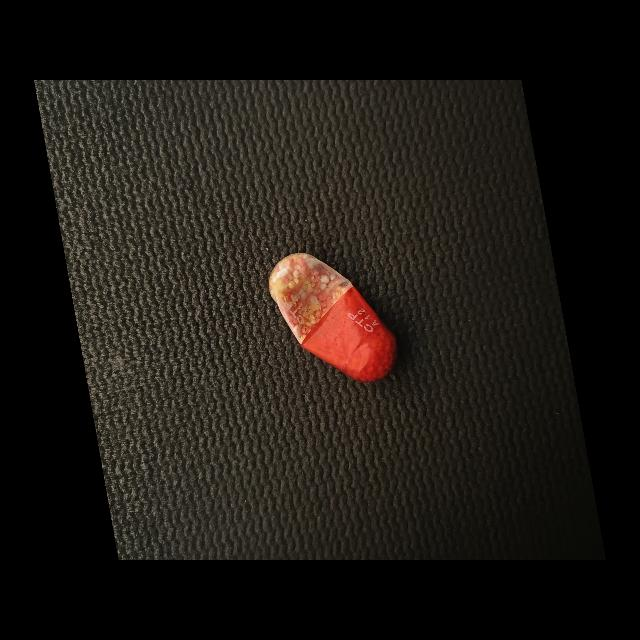Defective Capsule: (269, 253, 397, 383)
